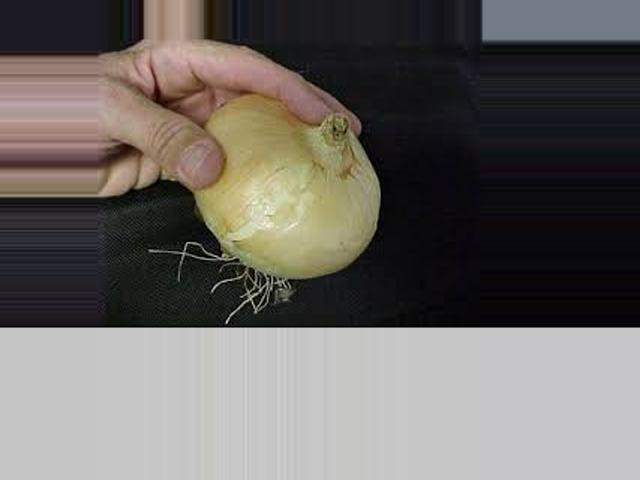onion: (196, 90, 375, 281)
